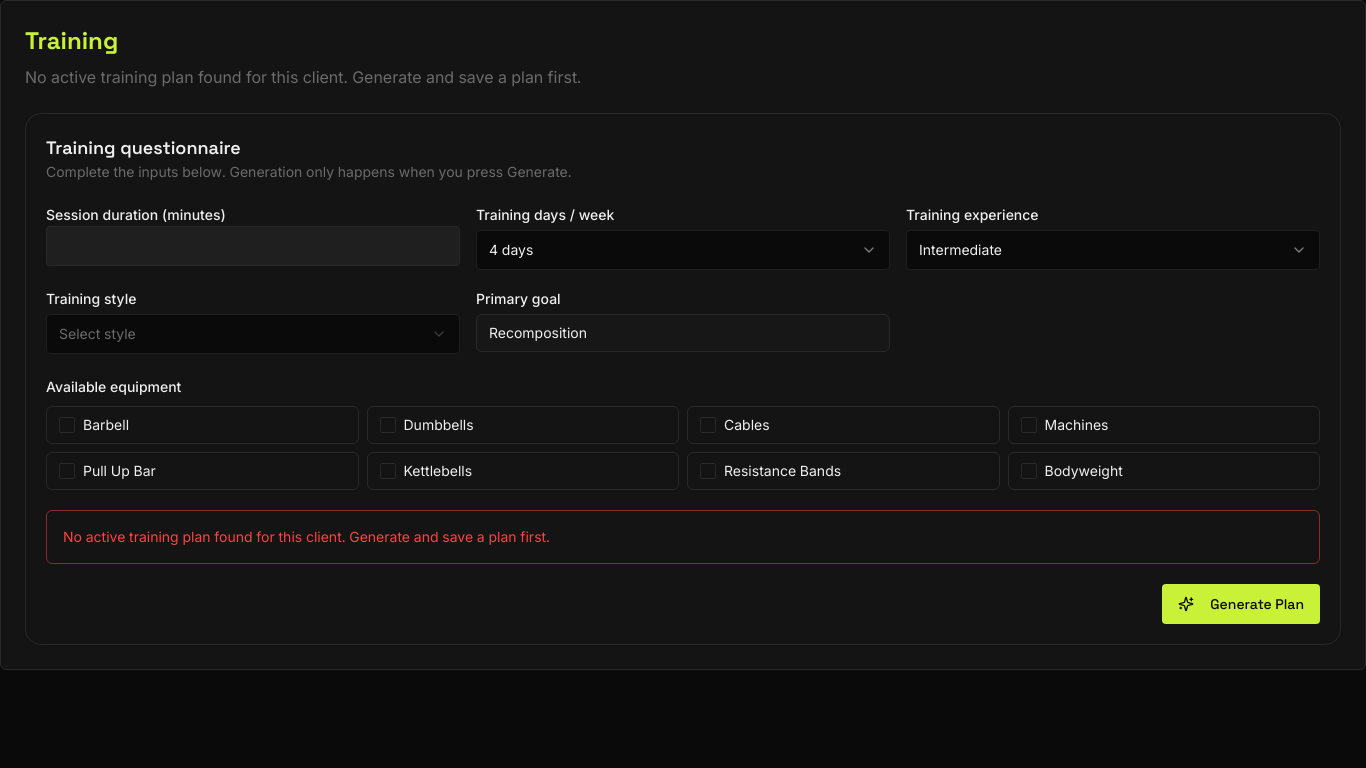
Test: TrainingPage generation authority › does not generate on load and refuses to generate with incomplete input
This screenshot has width=1366, height=768.
Click the button "Generate Plan". click: x=1241, y=604
box: [1162, 584, 1320, 624]
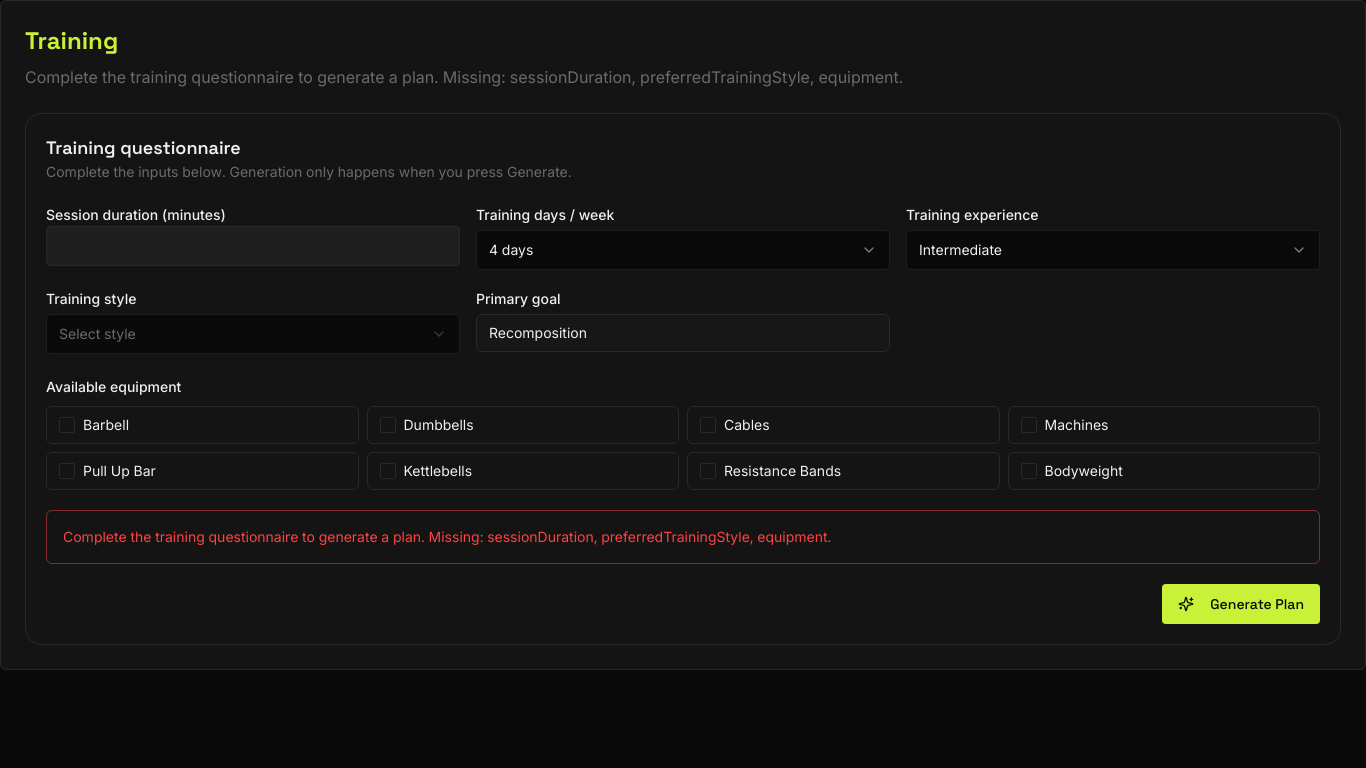
Expected: the 1st text "preferredTrainingStyle" is shown, [25, 67, 903, 87]
